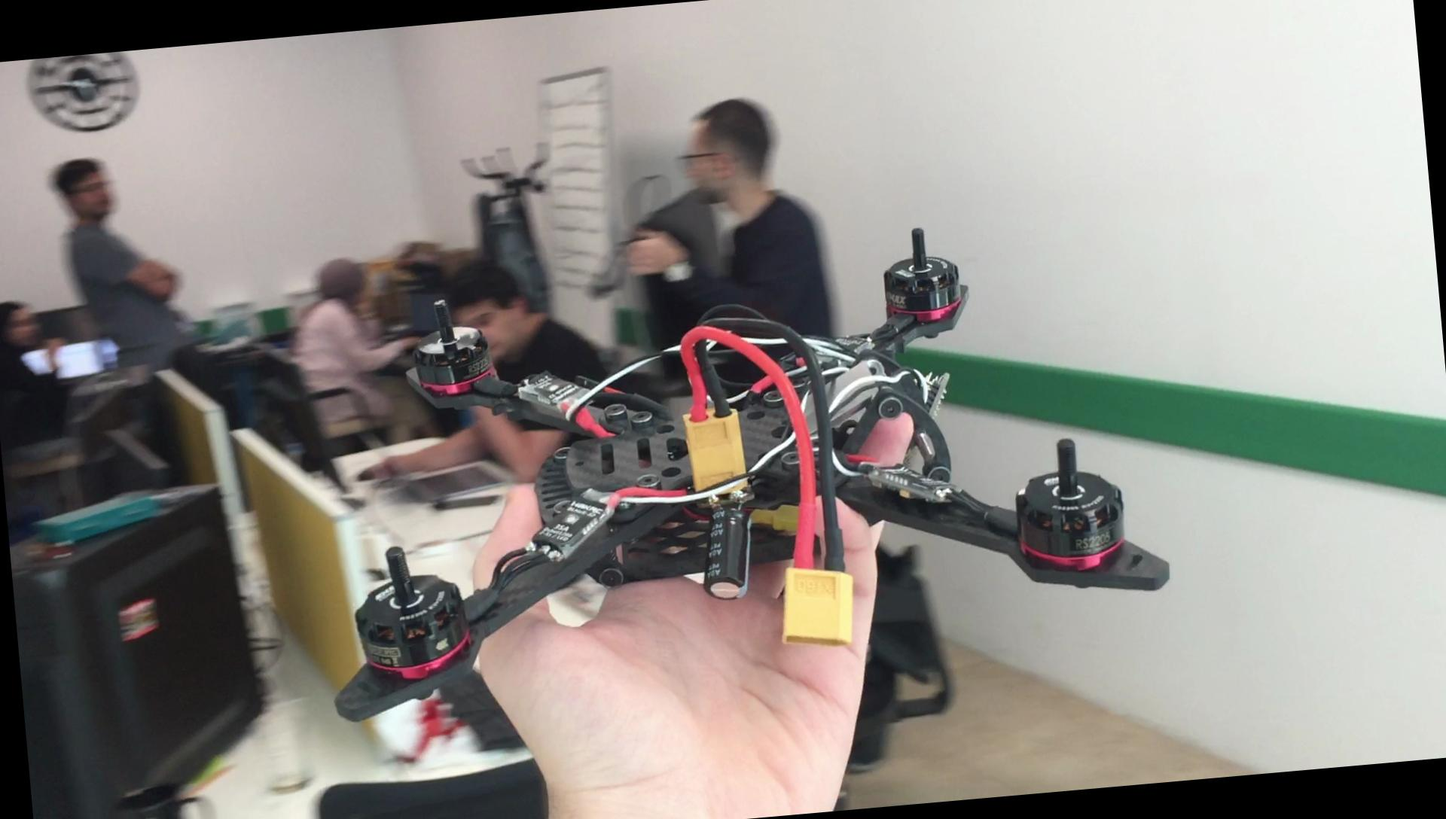drone: (322, 220, 1202, 699)
